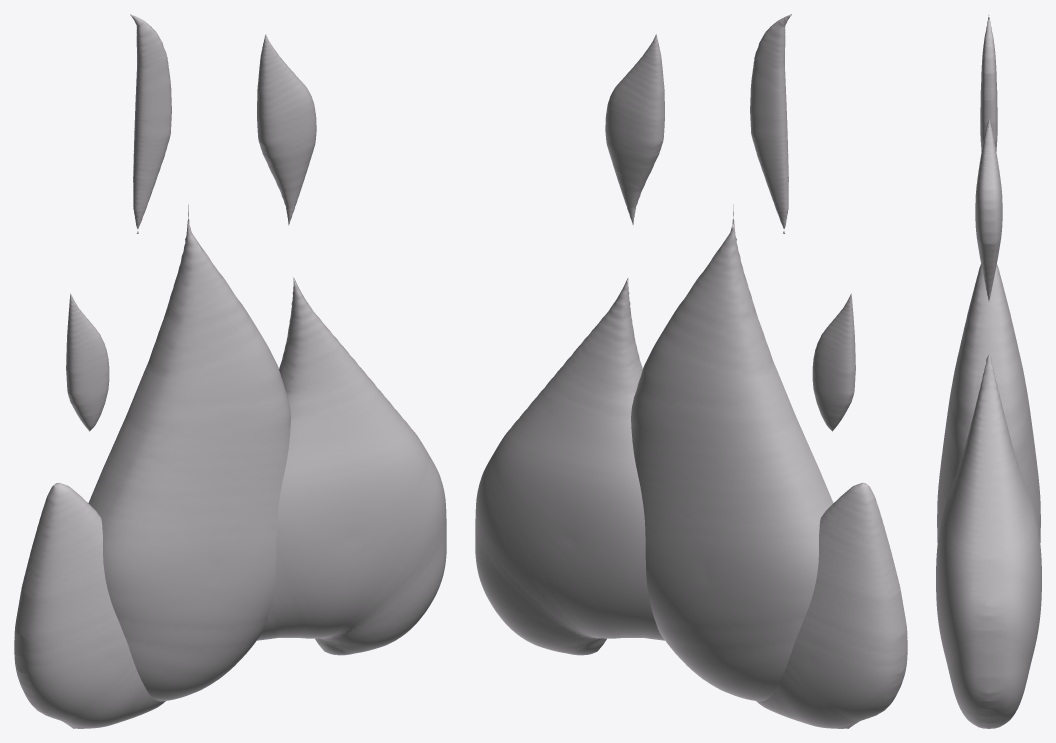
Rendered from TestFlame2.fbx.
3 views of the same model, side by side, from view 1: azimuth 30°, elevation 25°; view 2: azimuth 150°, elevation 25°; view 3: azimuth 270°, elevation 25° (orthographic). The views are drawn at different scales.
Parts seen in each view (by area): view 1: root (×6); view 2: root (×6); view 3: root (×4).
Boxes of the visible parts, <box> form: root (×6): <box>14,14,446,728</box>; root (×6): <box>475,14,907,728</box>; root (×4): <box>936,15,1041,728</box>.
Size of the model in its own units: 0.4471 by 0.7118 by 0.1107.
Materials: 6 (6 with a texture image).
